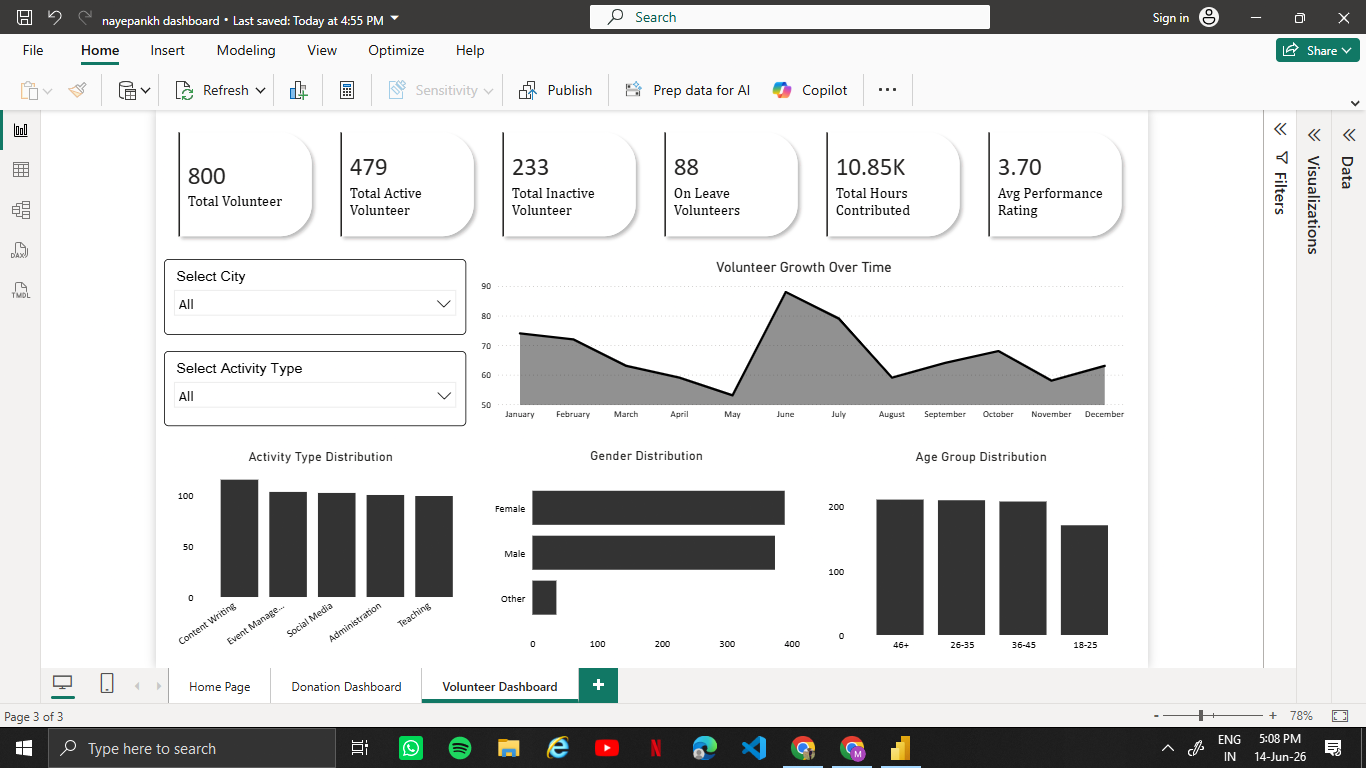

Layout of this report page (visuals, bound fields, positions):
{"tool":"powerbi","page":{"name":"Volunteer Dashboard","canvas":[1280,720],"ordinal":2},"visuals":[{"type":"cardVisual","fields":{"Data":["CountNonNull(volunteers_dataset.Volunteer_ID)","volunteers_dataset.Active Volunteers","volunteers_dataset.Inactive Volunteers","volunteers_dataset.On Leave Volunteers","Sum(volunteers_dataset.Hours_Contributed_Per_Month)","Avg(volunteers_dataset.Performance_Rating)"]},"box":[0,0,1279.8,192.8],"z":0},{"type":"slicer","fields":{"Values":["volunteers_dataset.City"]},"box":[9.9,192.8,389.8,97.8],"z":1000},{"type":"slicer","fields":{"Values":["volunteers_dataset.Activity_Type"]},"box":[10.5,311.6,390.1,96.9],"z":2000},{"type":"lineChart","title":"Volunteer Growth Over Time","fields":{"Y":["Count(volunteers_dataset.Volunteer_ID)"],"Category":["volunteers_dataset.Join_Date.Variation.Date Hierarchy.Month"]},"box":[413.9,192.8,843.3,215.4],"z":3000},{"type":"columnChart","title":" Activity Type Distribution","fields":{"Category":["volunteers_dataset.Activity_Type"],"Y":["CountNonNull(volunteers_dataset.Volunteer_ID)"]},"box":[10.5,437.2,404.5,271],"z":4000},{"type":"columnChart","title":"Age Group Distribution ","fields":{"Category":["volunteers_dataset.Age_Group"],"Y":["CountNonNull(volunteers_dataset.Volunteer_ID)"]},"box":[861.4,437.2,405.8,271],"z":5000},{"type":"barChart","title":"Gender Distribution ","fields":{"Category":["volunteers_dataset.Gender"],"Y":["CountNonNull(volunteers_dataset.Volunteer_ID)"]},"box":[429.4,436.5,406.8,270.7],"z":6000}]}

Visuals, with their boxes on the page's 1280x720 design canvas (x1, y1, x2, y2). These are canvas units, not pixel positions in the 1366x768 screenshot, which may show the page scaled, cropped or inside an application window:
cardVisual - CountNonNull(volunteers_dataset.Volunteer_ID) x volunteers_dataset.Active Volunteers: x1=0 y1=0 x2=1280 y2=193
slicer - volunteers_dataset.City: x1=10 y1=193 x2=400 y2=291
slicer - volunteers_dataset.Activity_Type: x1=10 y1=312 x2=401 y2=408
"Volunteer Growth Over Time" lineChart: x1=414 y1=193 x2=1257 y2=408
" Activity Type Distribution" columnChart: x1=10 y1=437 x2=415 y2=708
"Age Group Distribution " columnChart: x1=861 y1=437 x2=1267 y2=708
"Gender Distribution " barChart: x1=429 y1=436 x2=836 y2=707
